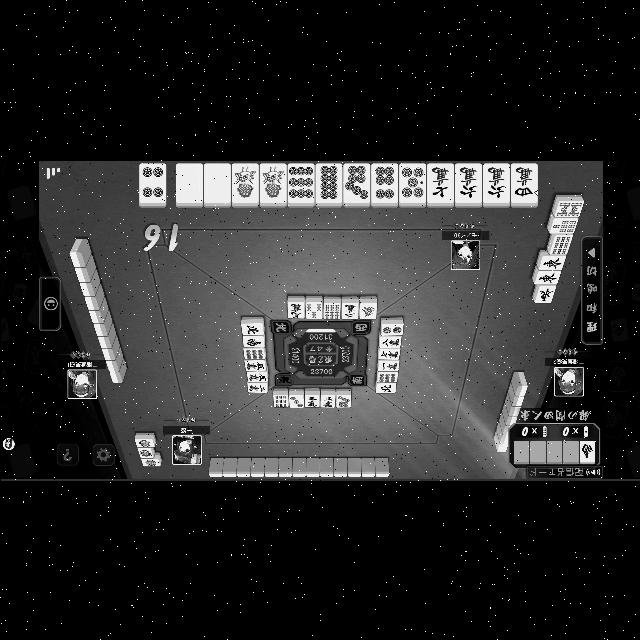1m: (379, 361, 396, 369)
1p: (138, 448, 150, 456), (142, 459, 156, 465), (138, 439, 150, 446)
1s: (260, 165, 284, 197), (232, 165, 255, 197)
2m: (342, 303, 356, 317), (248, 383, 264, 391)
2p: (382, 326, 401, 332)
3m: (306, 394, 316, 406), (322, 396, 332, 406)
3p: (290, 396, 302, 406)
3s: (306, 302, 320, 318)
4m: (513, 164, 533, 196)
4p: (140, 166, 162, 196)
5m: (244, 361, 264, 369), (247, 372, 265, 380)
5p: (401, 165, 424, 198)
6m: (484, 165, 506, 198), (457, 165, 478, 198)
6p: (373, 165, 395, 198)
6s: (324, 304, 338, 318)
7m: (428, 165, 450, 198), (378, 350, 398, 358)
7p: (344, 164, 368, 198), (336, 396, 349, 406)
7s: (551, 219, 575, 231)
8m: (381, 338, 399, 347)
8p: (318, 164, 338, 198)
8s: (555, 201, 581, 215)
9m: (289, 302, 301, 318)
9p: (288, 165, 312, 197), (244, 348, 262, 358), (378, 372, 394, 382)
9s: (550, 236, 570, 254), (274, 394, 286, 406)
haku: (176, 166, 202, 198), (204, 165, 228, 198)
hatsu: (360, 304, 374, 316)
nan: (580, 442, 592, 458), (243, 336, 260, 346)
pe: (243, 324, 259, 334), (378, 382, 392, 392)
tou: (536, 271, 556, 283), (541, 256, 561, 268), (538, 287, 552, 301)
